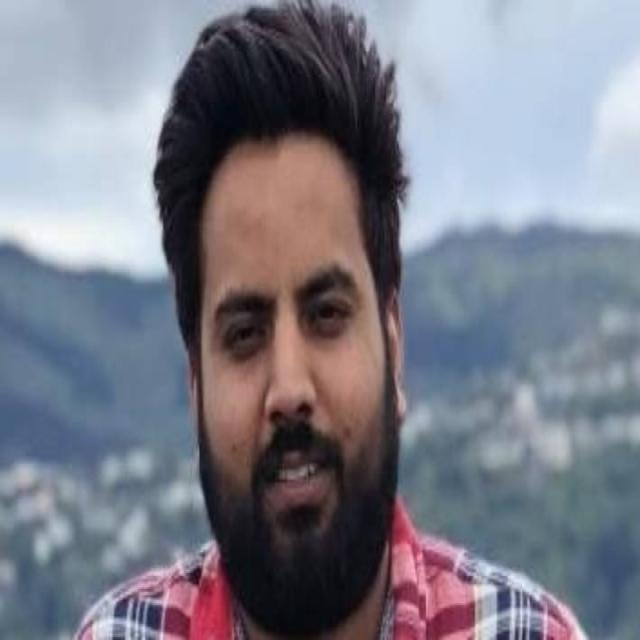mobile_phonerotation: (62, 0, 590, 637)
